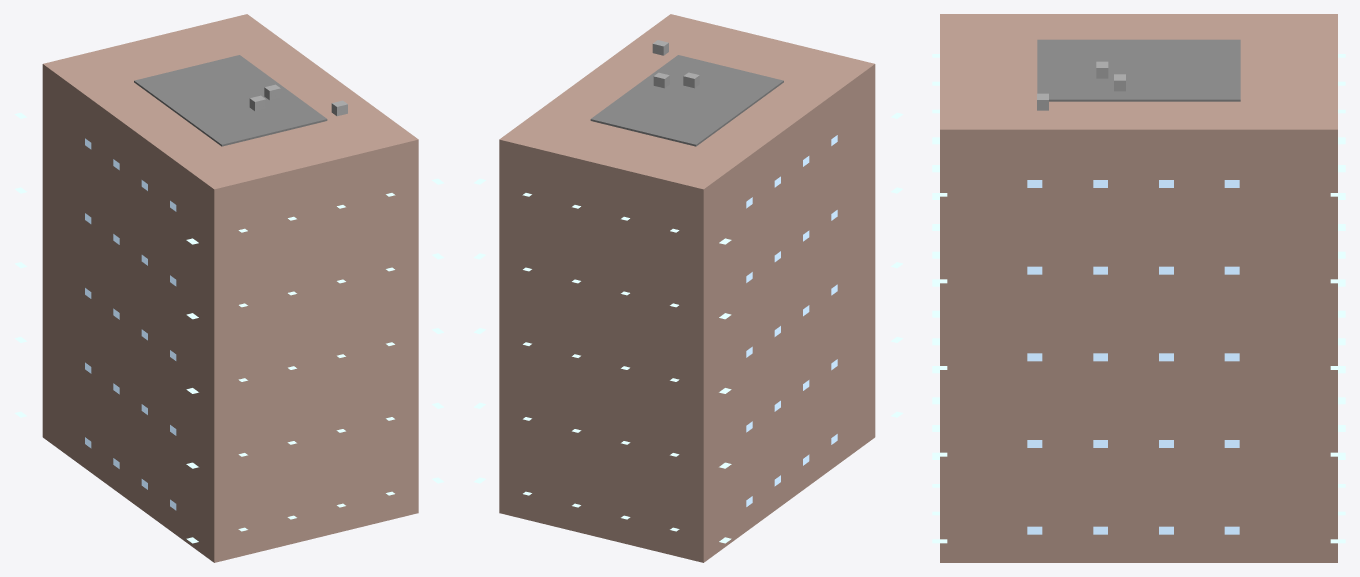
The model's file is residential_7.glb.
The picture shows the model from 3 angles, left to right: view 1: azimuth 30°, elevation 25°; view 2: azimuth 150°, elevation 25°; view 3: azimuth 270°, elevation 25°; orthographic projection. The views are drawn at different scales.
Visible parts, largest first — view 1: residential_7_body, residential_7_roof; view 2: residential_7_body, residential_7_roof; view 3: residential_7_body, residential_7_roof.
Part boxes in pixels (x1,y1,x2,y2): residential_7_body: (42, 14, 418, 562); residential_7_roof: (134, 55, 327, 146); residential_7_body: (499, 14, 875, 562); residential_7_roof: (590, 55, 783, 146); residential_7_body: (940, 14, 1337, 562); residential_7_roof: (1037, 39, 1240, 101).
Size of the model in its own units: 11.3 by 16.55 by 13.84.
